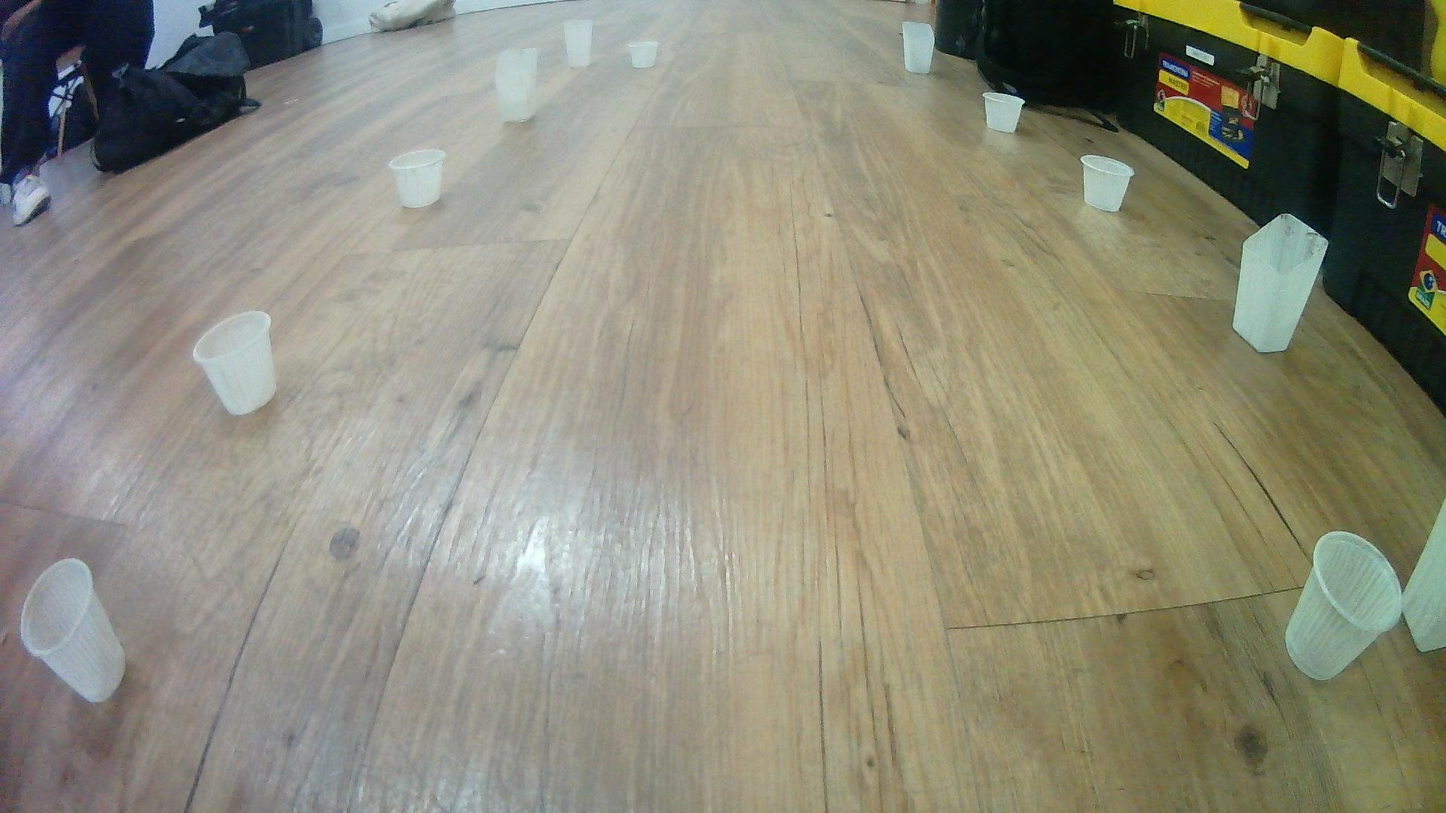erva_daninha: (1232, 213, 1329, 354), (1399, 495, 1446, 653), (493, 49, 538, 123), (901, 21, 935, 75), (562, 20, 593, 69)
planta: (1283, 530, 1405, 681), (20, 558, 127, 704), (193, 310, 277, 417), (388, 148, 446, 209), (1079, 154, 1135, 212), (983, 91, 1026, 133), (627, 41, 658, 69)
